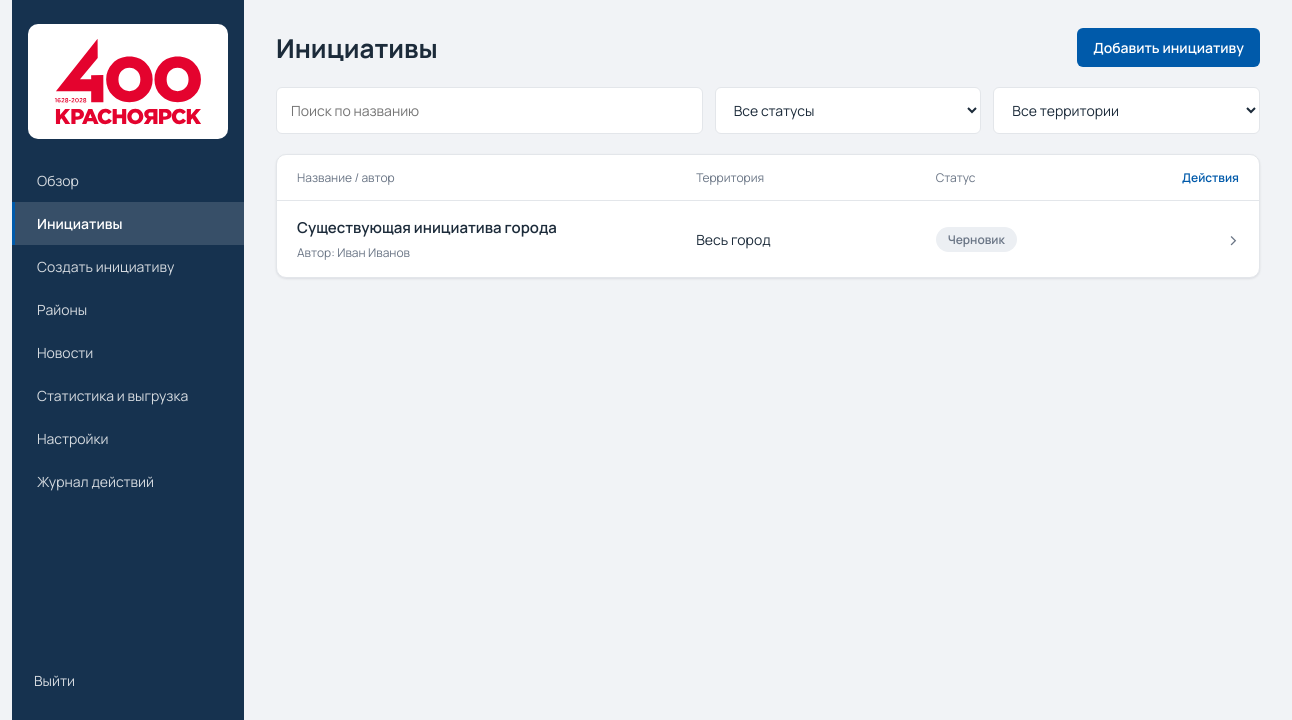
Test: admin initiatives › navigates to the create page from the add button
Expected: the text "Существующая инициатива города" is shown, [297,217,557,238]
Click the button "Добавить инициативу".
click(1169, 48)  # box [1077,28,1260,67]
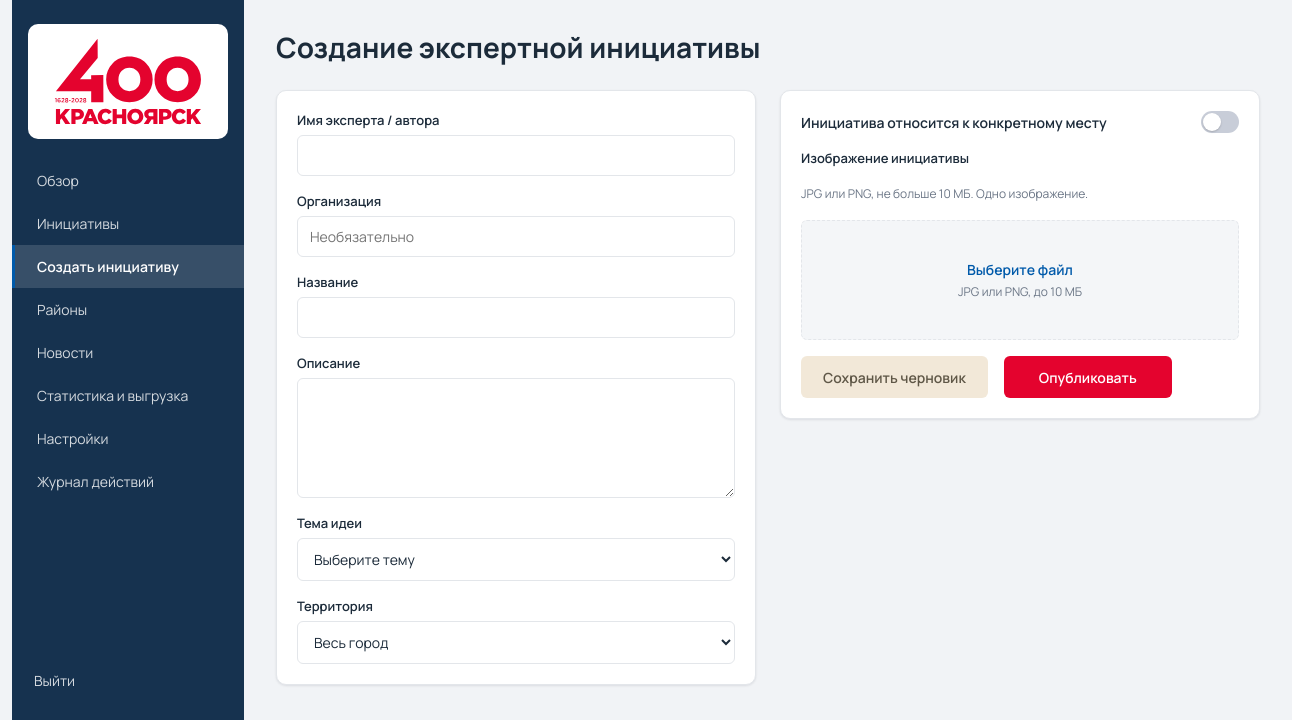
Expected: the heading "Создание экспертной инициативы" is shown, [276,28,760,66]
